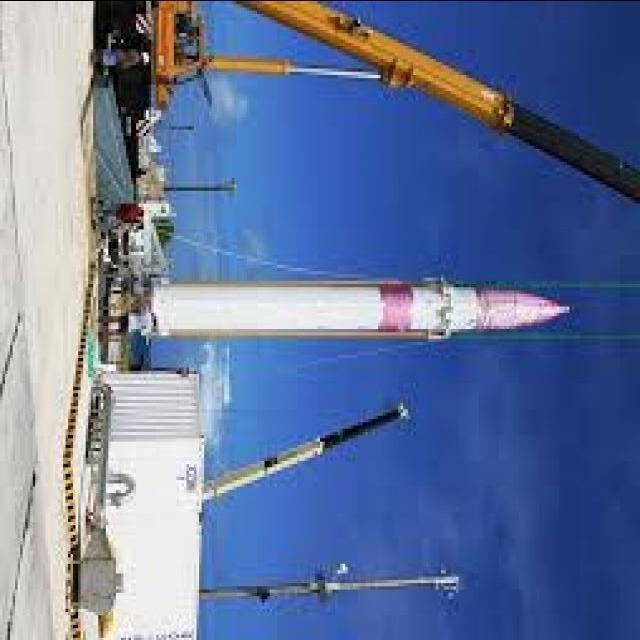missile: (127, 270, 574, 345)
